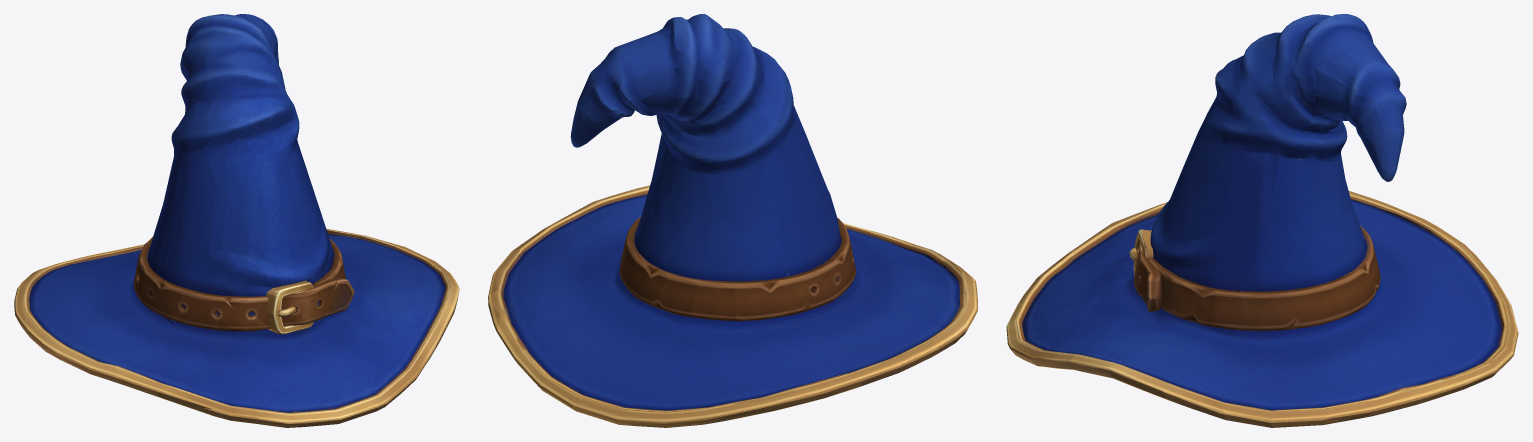
File: wizard_hat.glb
3 renders of one model, left to right at view 1: azimuth 30°, elevation 25°; view 2: azimuth 150°, elevation 25°; view 3: azimuth 270°, elevation 25°, orthographic. The views are drawn at different scales.
Parts seen in each view (by area): view 1: Mesh_0; view 2: Mesh_0; view 3: Mesh_0.
Part boxes in pixels (x1,y1,x2,y2): Mesh_0: [14, 14, 459, 427]; Mesh_0: [488, 14, 977, 427]; Mesh_0: [1006, 14, 1518, 427].
Bounding box in the file's own units: 1.9 × 1.36 × 1.89.
Materials: 1 (1 with a texture image).
